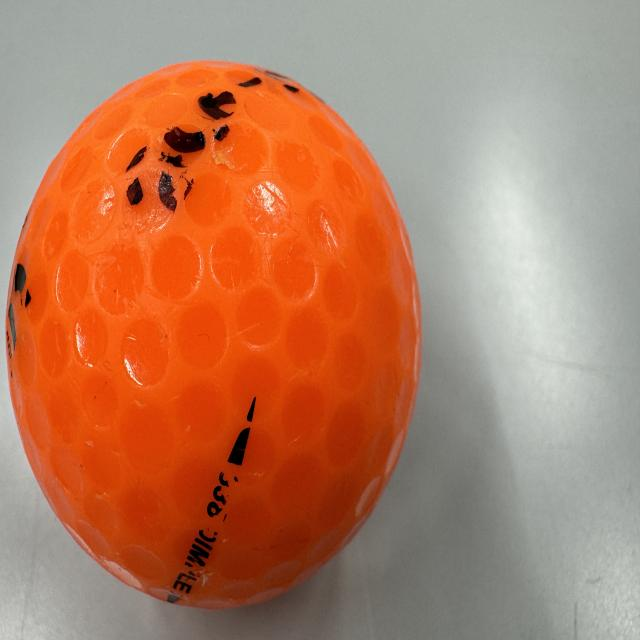ball: (0, 51, 430, 634)
